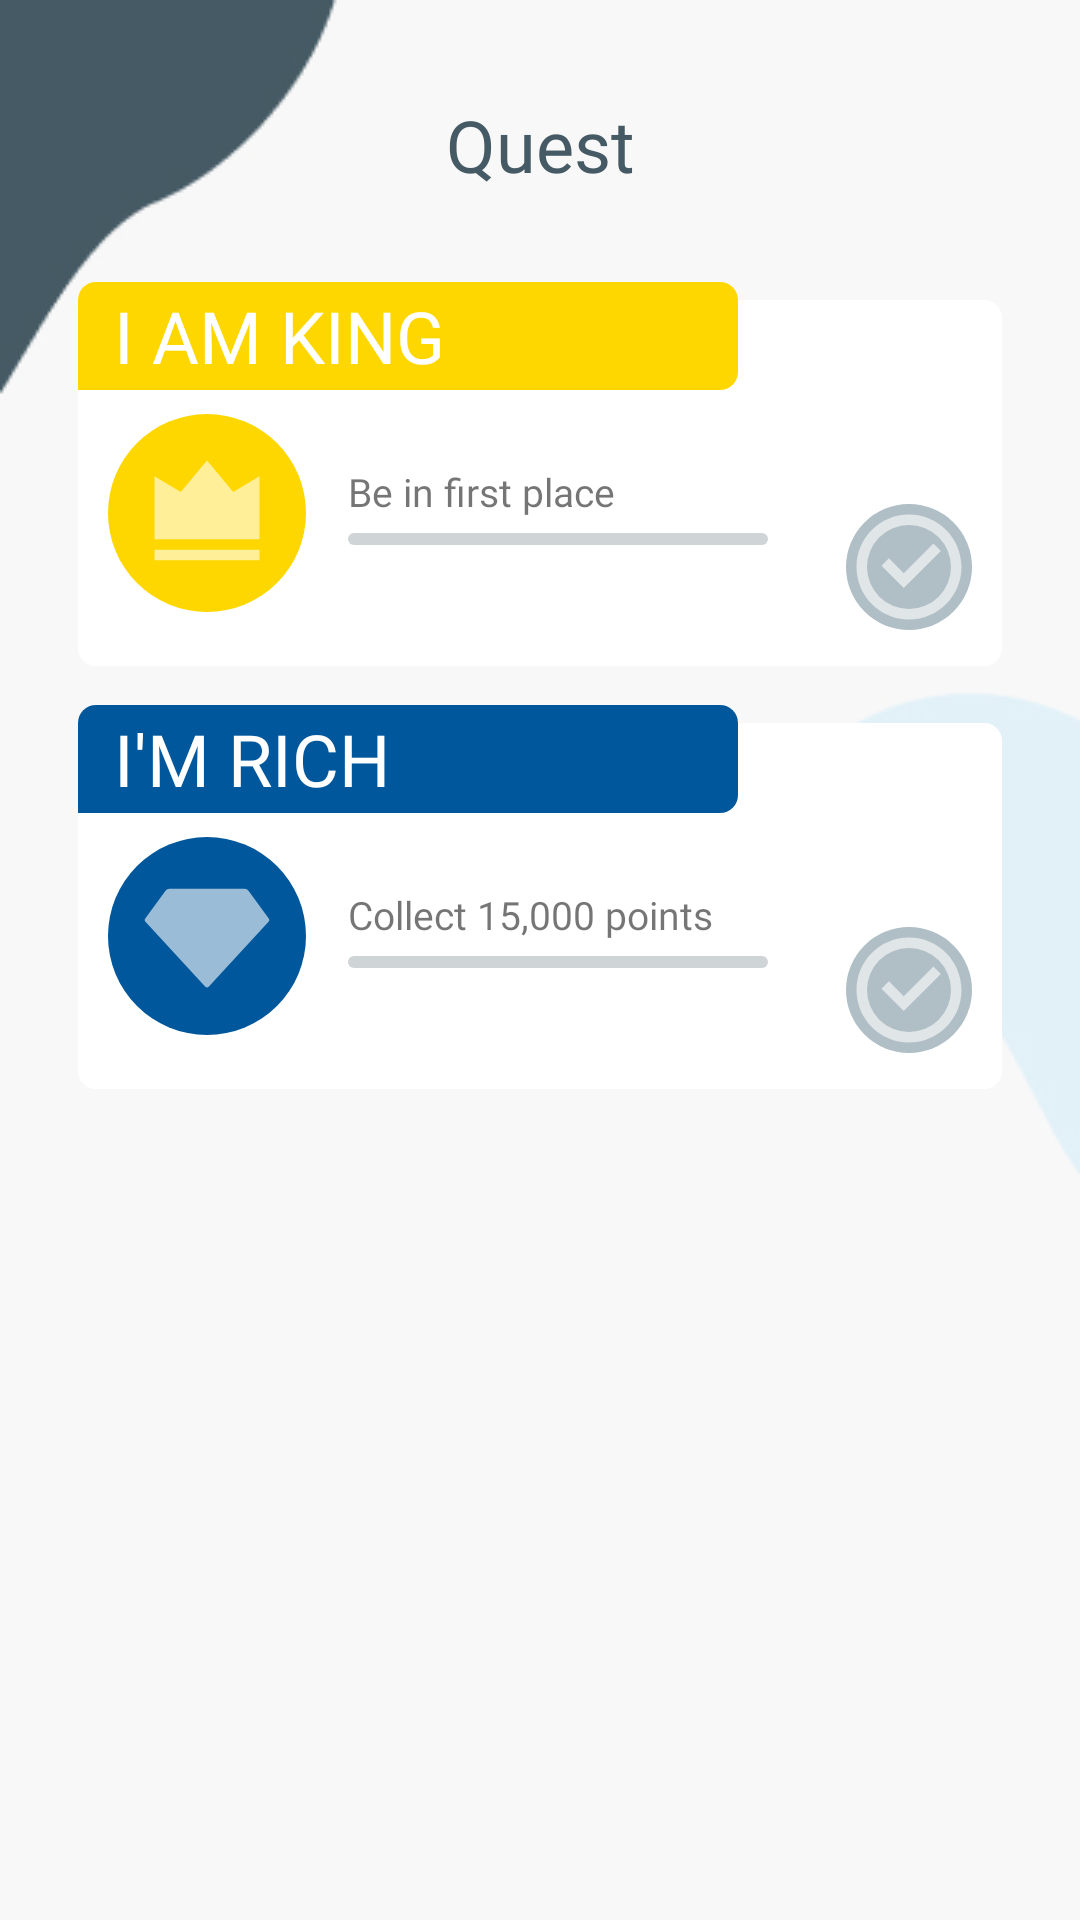

Screen size 1080px×1920px. Icon name, then its box in pixels as (x1, y1, x2, y2):
check circle: (846, 504, 972, 630), (846, 927, 972, 1053)
